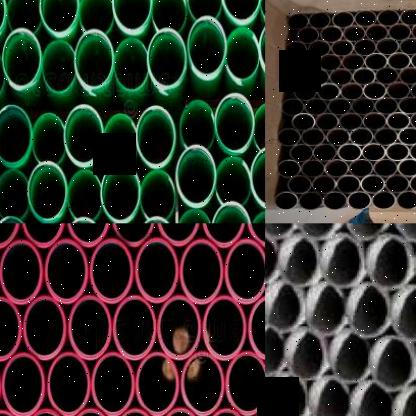pipe: (365, 228, 416, 288), (44, 238, 90, 304), (181, 350, 225, 416), (68, 295, 112, 361), (158, 295, 202, 361), (203, 295, 247, 361), (180, 238, 224, 304), (89, 238, 133, 304), (344, 282, 394, 340), (316, 232, 369, 286), (135, 238, 179, 303), (113, 295, 156, 361), (47, 352, 91, 416), (90, 352, 134, 416), (136, 352, 180, 416), (0, 240, 43, 304), (224, 237, 265, 304), (1, 355, 46, 416), (367, 334, 416, 390), (24, 296, 66, 361), (282, 324, 330, 380), (306, 279, 354, 335), (278, 232, 325, 288), (326, 327, 372, 383), (225, 352, 265, 416), (63, 104, 104, 166), (176, 144, 216, 206), (136, 105, 176, 167), (100, 162, 141, 221), (27, 161, 67, 221), (215, 92, 255, 152), (187, 15, 227, 75), (74, 29, 115, 87), (265, 276, 308, 330), (147, 28, 185, 88), (2, 28, 41, 86), (266, 370, 311, 416), (307, 373, 355, 416), (0, 104, 32, 163), (349, 378, 396, 416), (226, 26, 259, 80), (32, 112, 66, 164), (42, 40, 75, 92), (115, 38, 148, 90), (141, 170, 176, 218), (181, 99, 215, 148), (68, 169, 101, 219), (104, 114, 137, 164), (216, 156, 250, 204), (389, 280, 416, 340), (0, 295, 22, 361), (0, 168, 29, 217), (38, 0, 78, 33), (265, 323, 288, 377), (112, 0, 152, 31), (65, 223, 110, 248), (7, 0, 41, 33), (80, 0, 113, 34), (152, 0, 187, 32), (248, 296, 265, 361), (22, 223, 66, 248), (111, 223, 155, 248), (202, 223, 246, 248), (156, 223, 200, 246), (388, 382, 416, 416), (250, 145, 265, 206), (342, 223, 390, 242), (265, 230, 282, 282), (211, 201, 251, 223), (294, 223, 342, 241), (221, 0, 262, 21), (186, 0, 222, 20), (265, 223, 299, 241), (254, 102, 265, 150), (177, 208, 212, 223), (311, 174, 336, 195), (322, 191, 348, 211), (287, 175, 313, 195), (324, 158, 350, 178), (348, 158, 374, 178), (372, 190, 396, 211), (374, 96, 399, 116), (338, 112, 363, 132), (312, 143, 337, 163), (289, 143, 314, 163), (373, 158, 398, 178), (373, 127, 399, 146), (347, 191, 371, 211), (326, 127, 350, 147), (385, 174, 409, 194), (315, 112, 339, 132), (351, 96, 375, 116), (387, 51, 411, 71), (304, 97, 328, 117), (277, 127, 301, 147), (274, 191, 298, 211), (361, 143, 386, 162), (349, 127, 374, 146), (337, 143, 362, 162), (385, 143, 410, 162), (360, 175, 385, 194), (300, 159, 325, 178), (298, 192, 323, 211), (362, 81, 387, 100), (327, 97, 352, 116), (291, 113, 316, 132), (352, 67, 376, 86), (336, 175, 360, 194), (340, 82, 364, 101), (386, 112, 410, 131), (386, 81, 410, 100), (362, 112, 386, 131), (277, 159, 301, 178), (318, 53, 342, 72), (281, 98, 305, 117), (353, 38, 377, 57), (301, 128, 326, 146), (328, 68, 353, 86), (319, 25, 344, 43), (395, 189, 416, 210), (294, 83, 317, 102), (364, 52, 387, 71), (306, 68, 329, 87), (375, 67, 399, 85), (295, 54, 319, 72), (296, 26, 320, 44), (307, 40, 331, 58), (317, 83, 341, 101), (283, 69, 307, 87), (330, 39, 354, 57), (341, 53, 365, 71), (354, 10, 377, 28), (376, 38, 399, 56), (388, 23, 411, 41), (376, 10, 400, 27), (342, 25, 366, 42), (284, 41, 308, 58), (396, 157, 416, 177), (332, 11, 354, 29), (365, 24, 388, 41), (397, 95, 416, 115), (287, 13, 309, 30), (308, 13, 331, 29), (397, 126, 416, 145), (398, 36, 416, 55), (398, 66, 416, 84), (398, 9, 416, 25), (409, 173, 416, 194), (409, 142, 416, 161), (410, 80, 416, 100), (410, 111, 416, 130), (410, 51, 416, 69), (411, 22, 416, 40)
